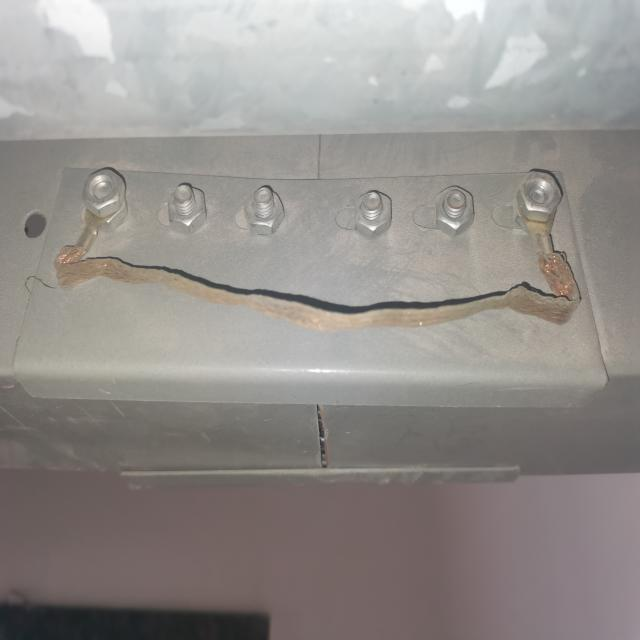Regular bolt: (517, 171, 563, 223), (245, 187, 285, 237), (436, 186, 475, 237), (169, 184, 208, 234), (85, 170, 127, 215), (356, 191, 392, 238), (101, 204, 130, 232)
